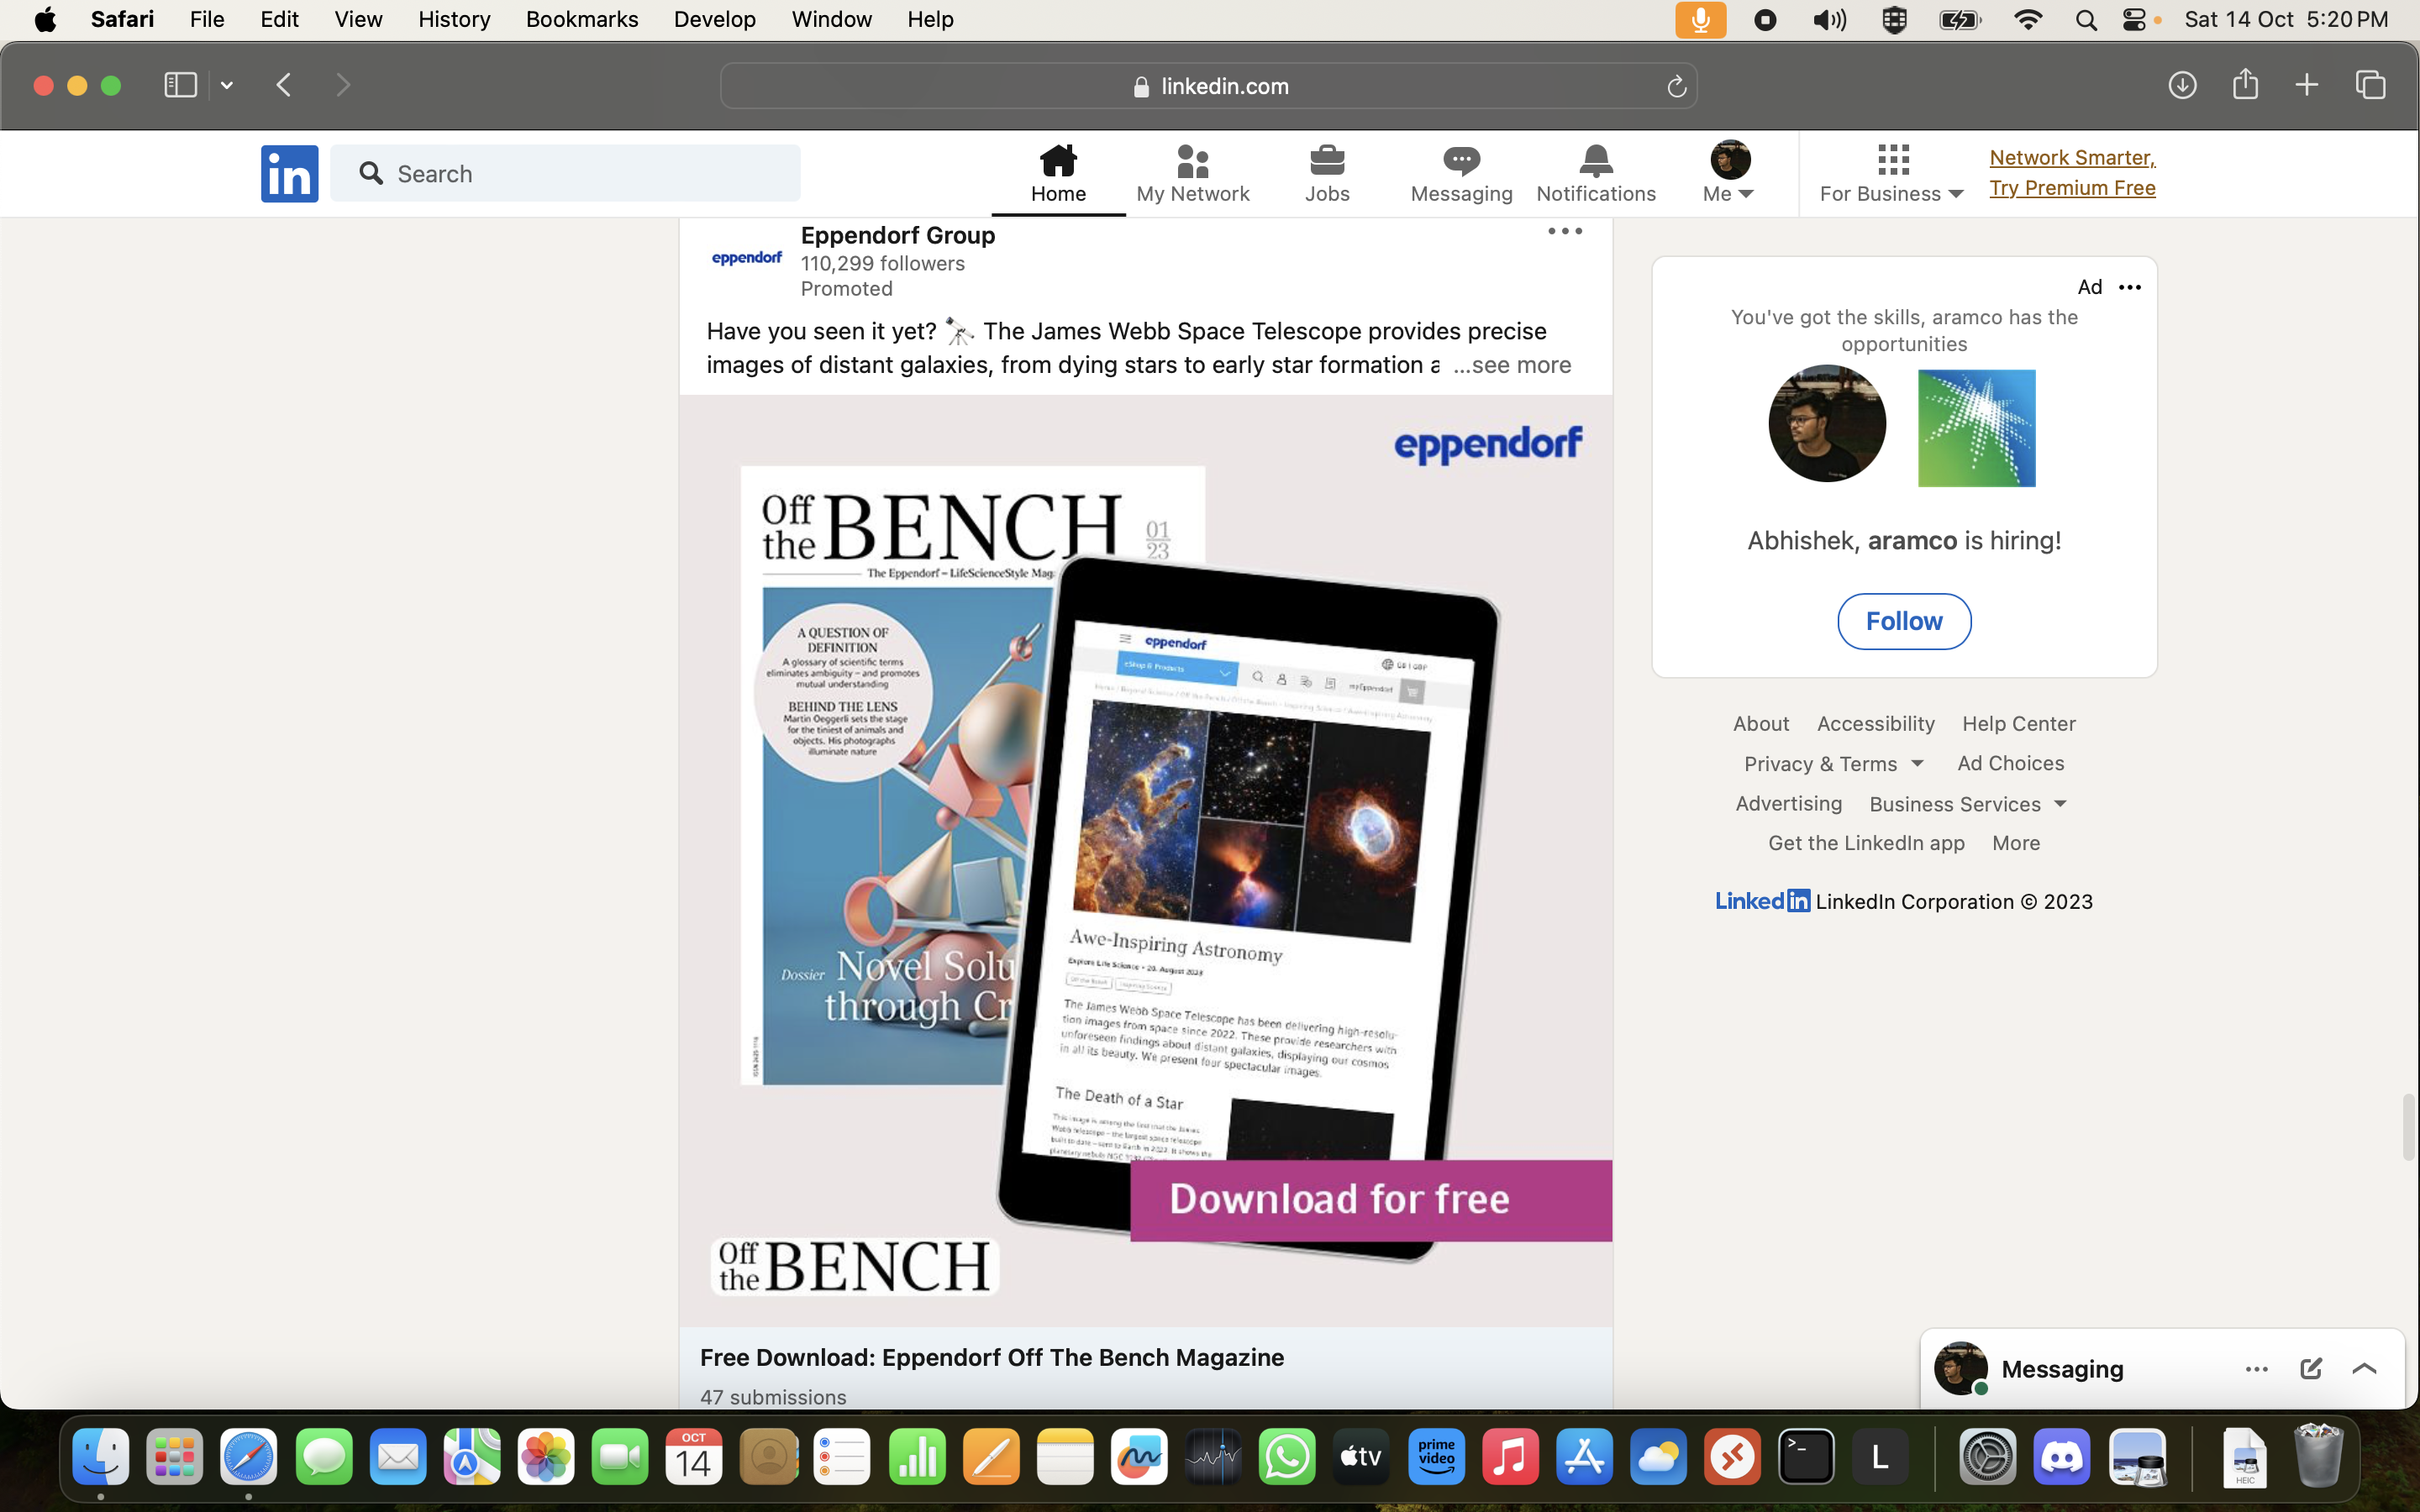Image: (676, 390, 1612, 1341), (1913, 371, 2044, 484), (1770, 368, 1894, 481)
Paragraph: (700, 308, 1587, 387), (1704, 291, 2089, 368), (1728, 517, 2075, 566), (793, 251, 991, 301), (1862, 596, 1965, 655), (786, 223, 1009, 244)
